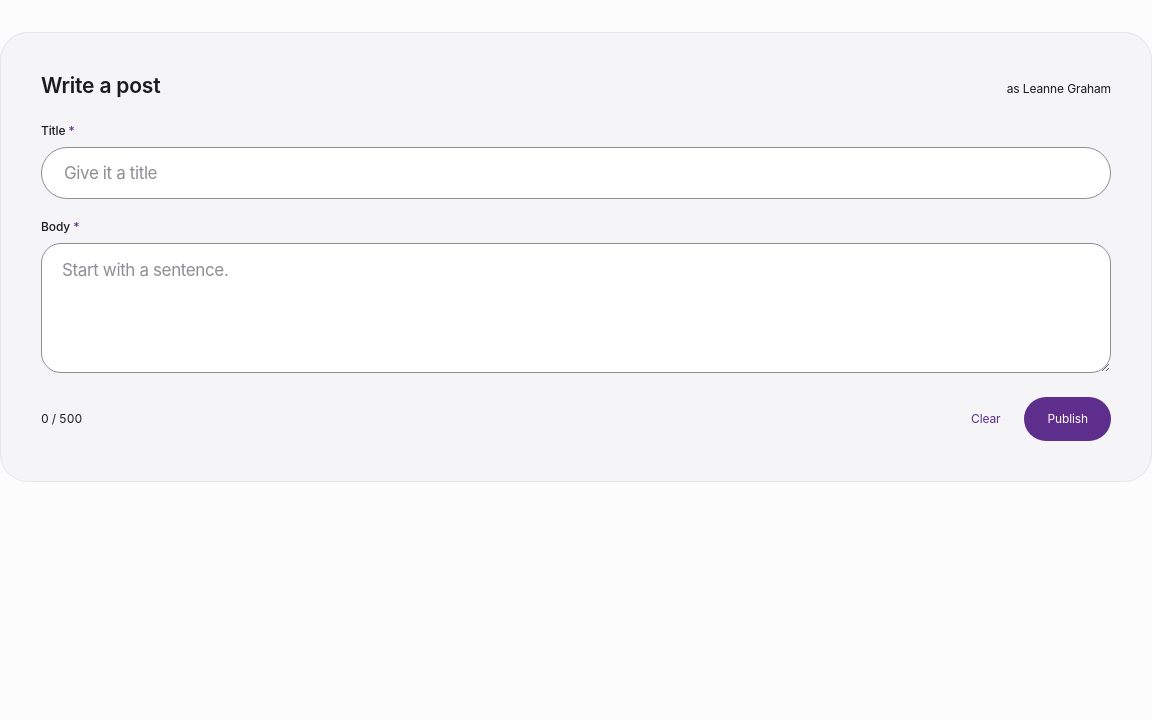
it: PostComposer › clears the draft and errors
Step 1. Click the button "Publish" → (1068, 419), box [1024,397,1111,441]
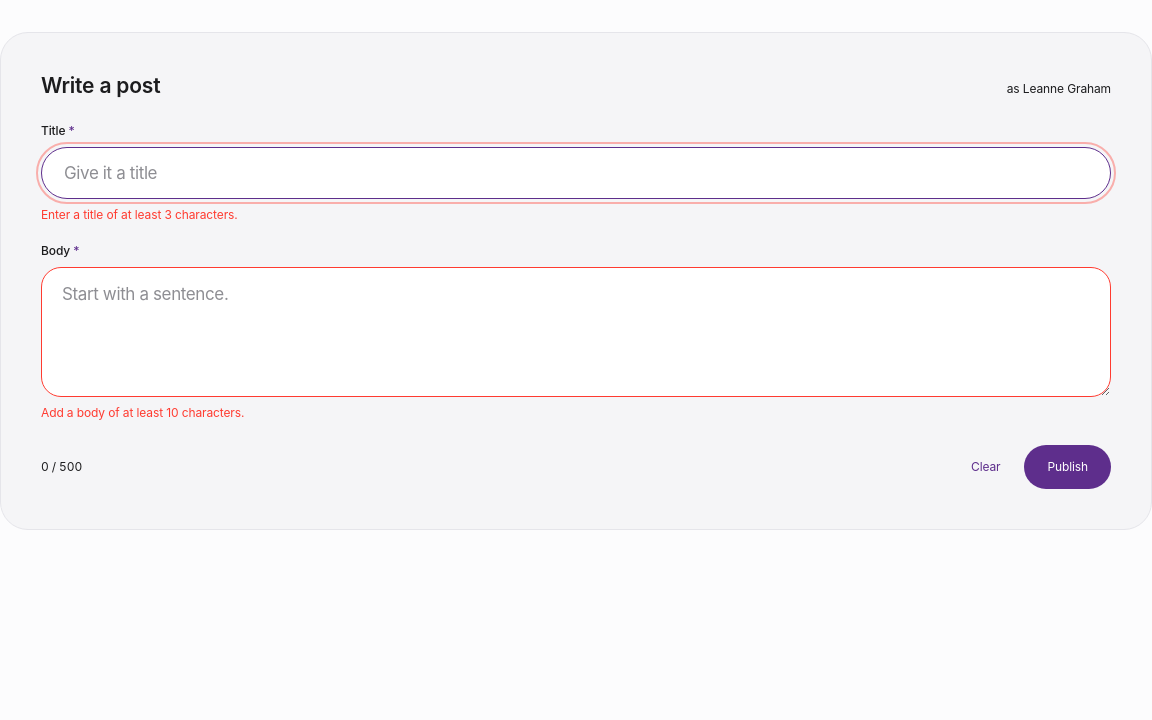
Step 2. Type "A local post" into the field labelled "Title" → (576, 173), box [41,147,1111,199]
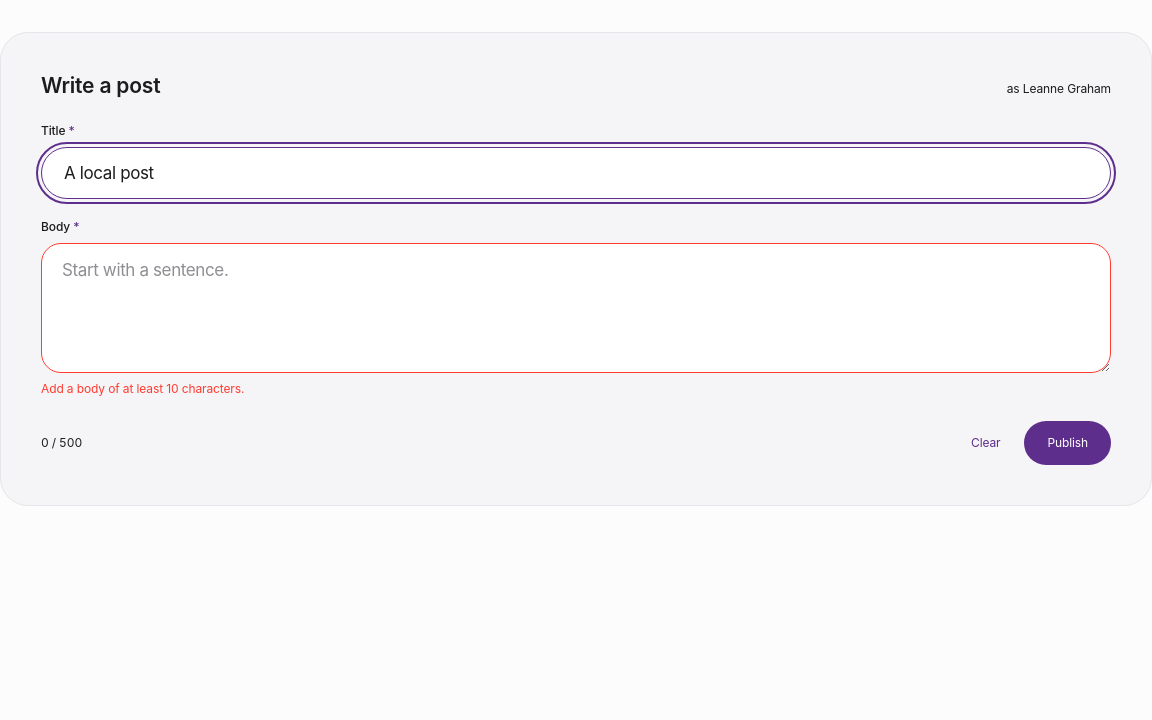
Step 3. Type "A body long enough" into the text box labelled "Body" → (576, 308), box [41,243,1111,373]
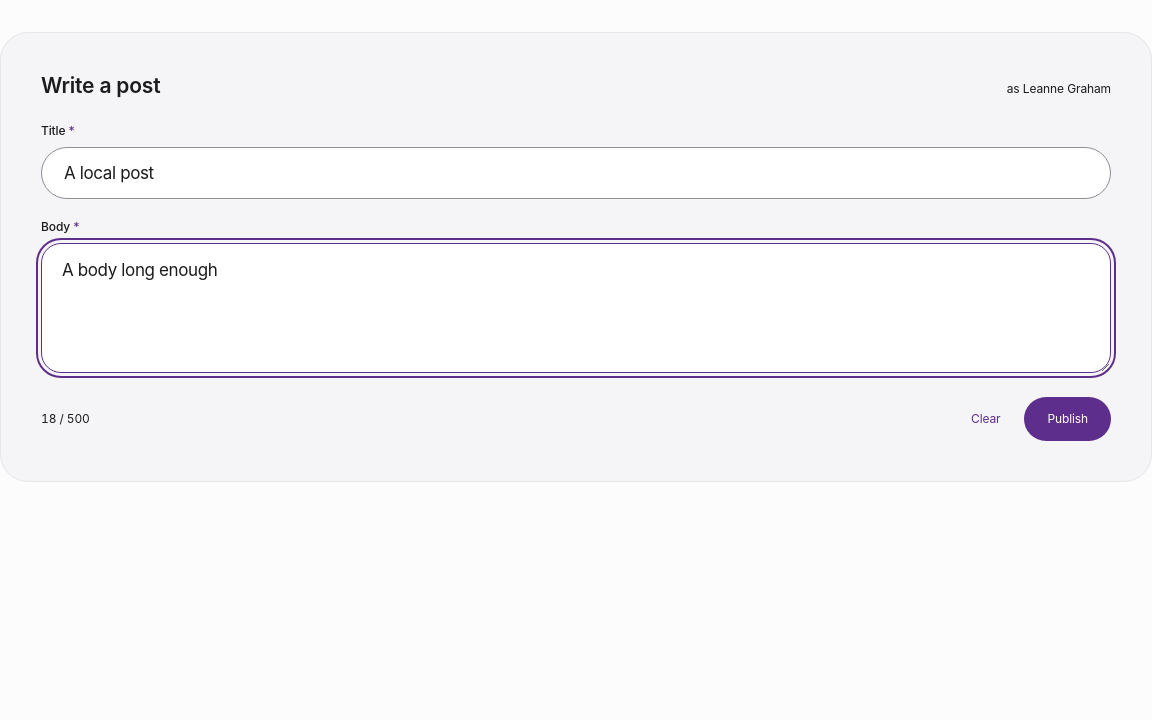
Step 4. Click the button "Clear" → (986, 419), box [967,397,1004,441]
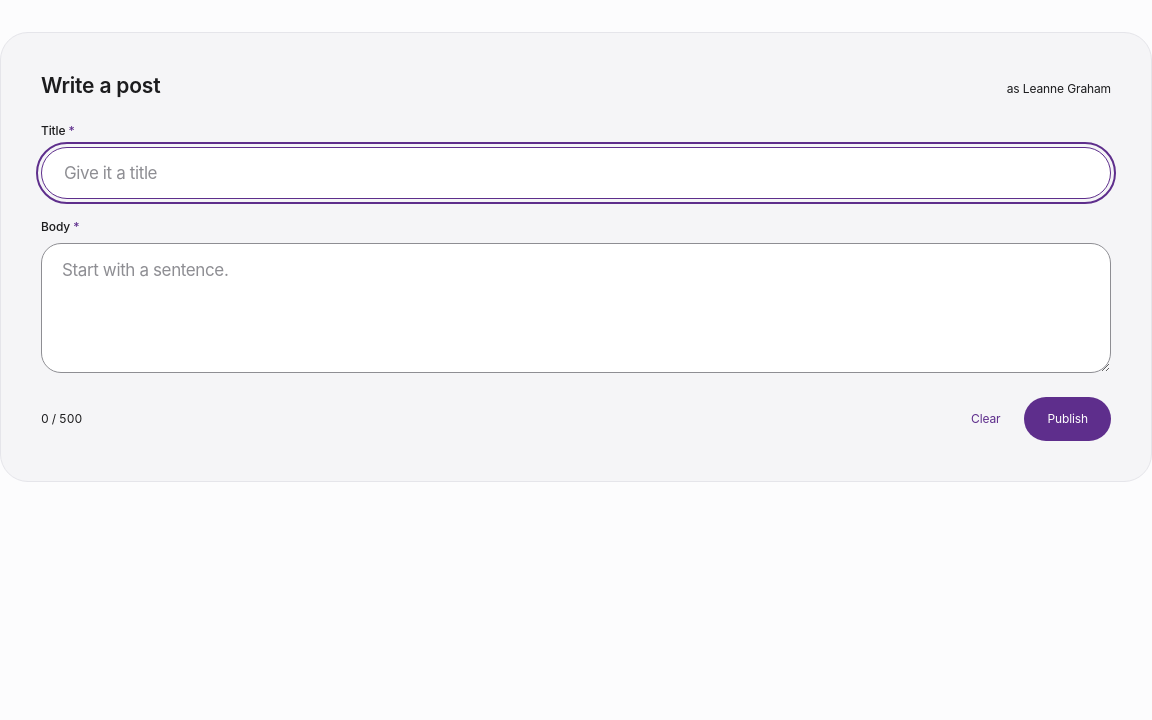
Expected: the text "Enter a title of at least 3 characters." is not shown
Expected: the field labelled "Title" is empty, [41,147,1111,199]
Expected: the text box labelled "Body" is empty, [41,243,1111,373]
